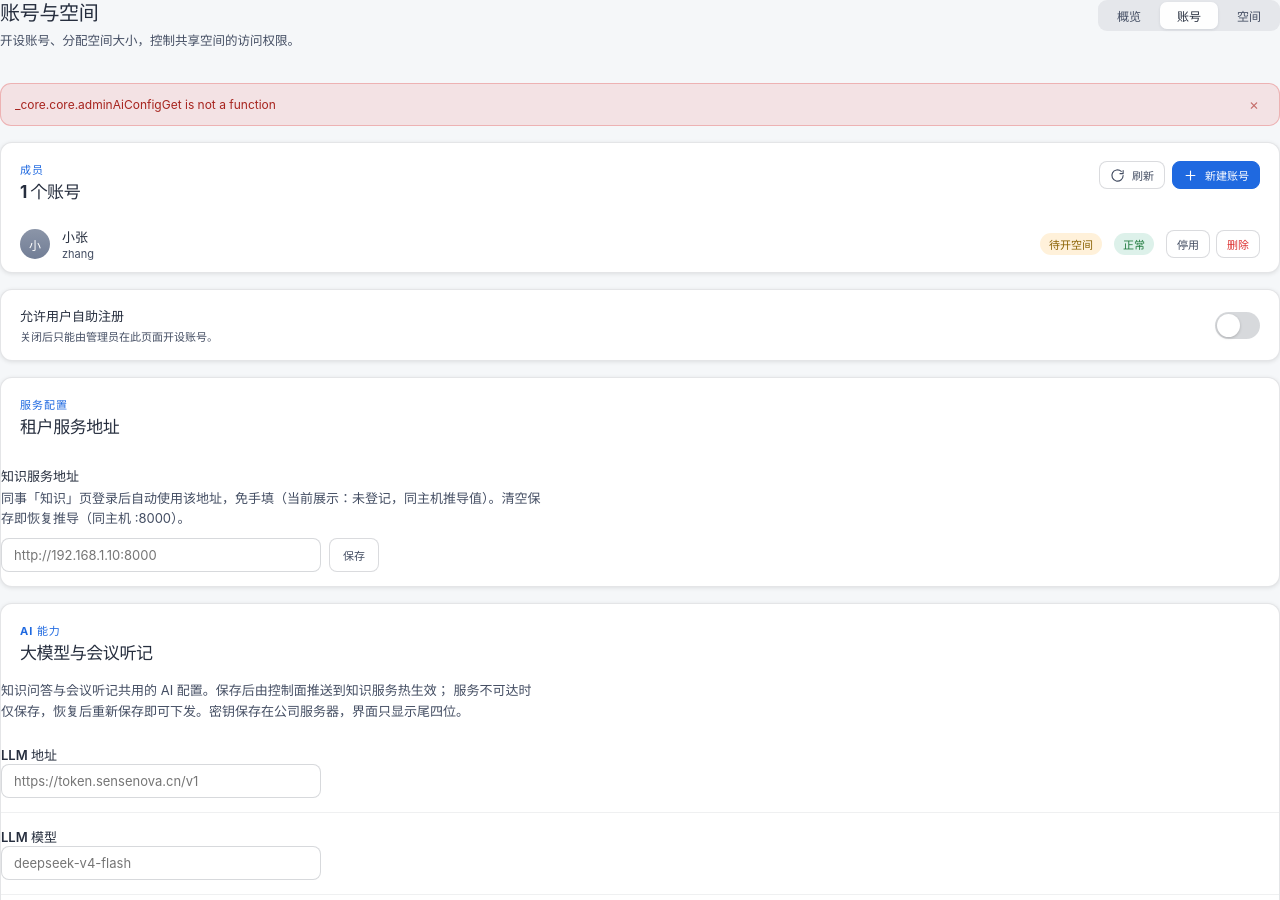
Scenario: AdminPanel 空间分配 › 未配置探测路径时说明池上限不生效
Click the tab with class "admin-tab" showing "空间".
click(1249, 16)  # box [1220,2,1278,29]
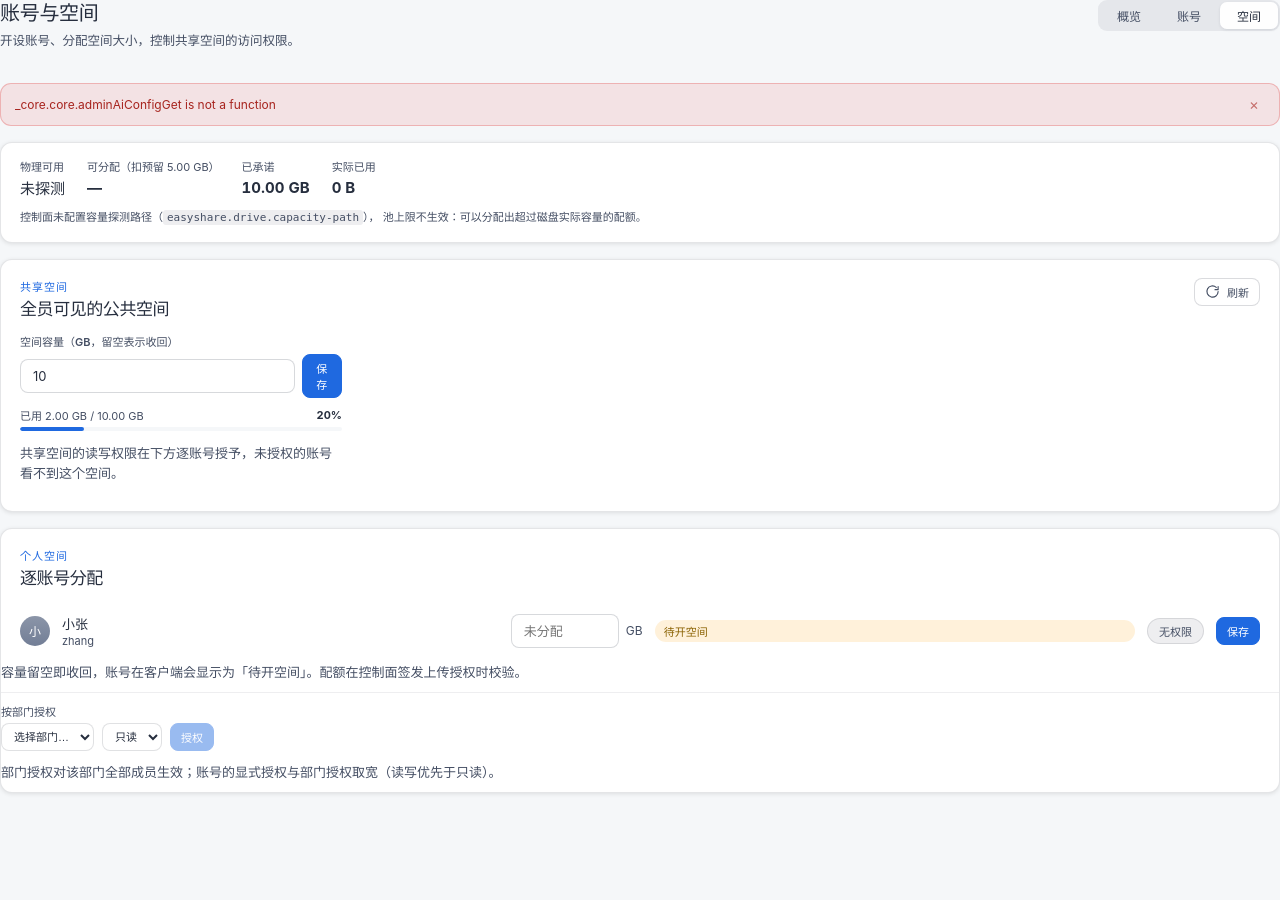
Expected: the element with class "capacity-note" is shown, [20,210,647,225]
Expected: the element with class "capacity-note" shows "池上限不生效", [363,210,647,224]
Expected: the text "未探测" is shown, [20,177,65,198]
